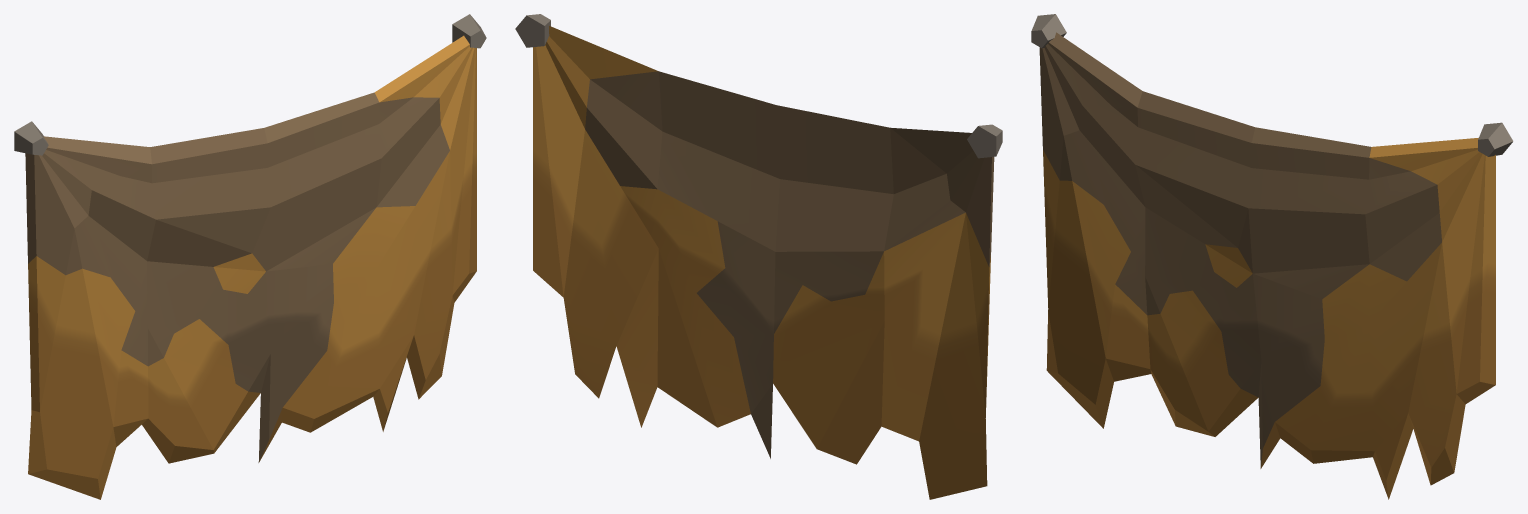
File: SM_Prop_Fabric_Drape_Alt_03.obj
The picture shows the model from 3 angles, left to right: view 1: azimuth 30°, elevation 25°; view 2: azimuth 150°, elevation 25°; view 3: azimuth 330°, elevation 25°; orthographic projection. The views are drawn at different scales.
Parts seen in each view (by area): view 1: SM_Prop_Fabric_Drape_Alt_03_0; view 2: SM_Prop_Fabric_Drape_Alt_03_0; view 3: SM_Prop_Fabric_Drape_Alt_03_0.
Part boxes in pixels (x1,y1,x2,y2): SM_Prop_Fabric_Drape_Alt_03_0: (14,14,486,499); SM_Prop_Fabric_Drape_Alt_03_0: (515,14,1002,499); SM_Prop_Fabric_Drape_Alt_03_0: (1031,14,1513,499).
Bounding box in the file's own units: 1.62 × 1.27 × 0.1499.
1 material, 1 textured.
